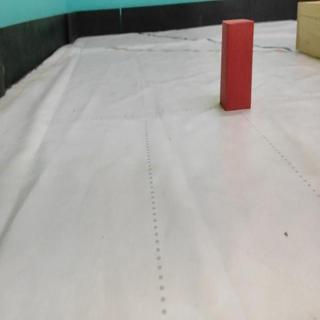redbox: (221, 17, 254, 112)
